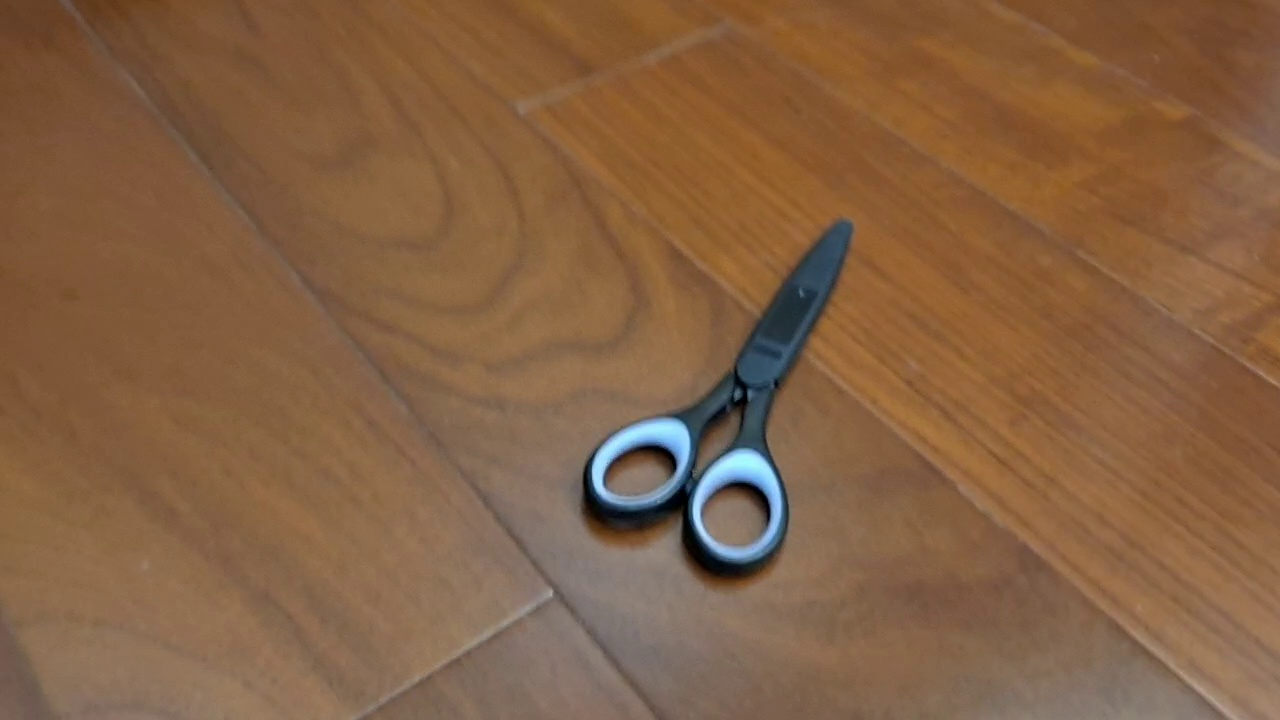scissors: (580, 219, 855, 579)
